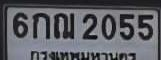0: (101, 13, 115, 39)
2: (82, 12, 97, 38)
5: (137, 14, 152, 39), (119, 13, 133, 39)
6: (12, 11, 27, 37)
A01: (32, 12, 49, 38)
A12: (53, 12, 75, 42)
